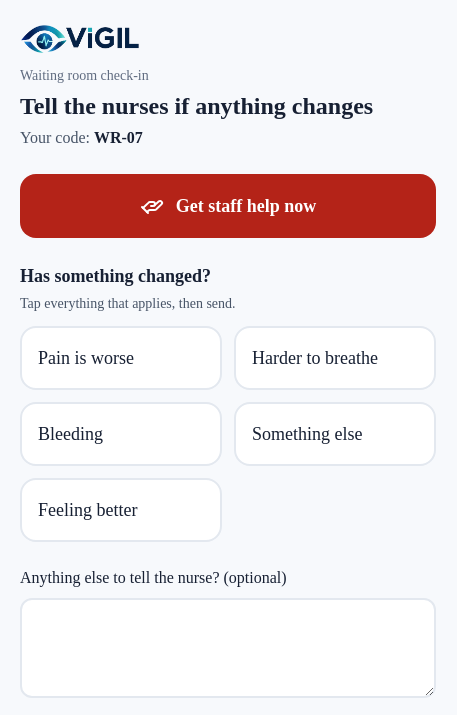
Test case: CheckinView › sends the chosen tags with the code and shows only what was sent
The image size is (457, 715).
Expected: the text "WR-07" is shown, [94, 129, 143, 146]
Click the button "Harder to breathe": (335,358) [234, 326, 436, 390]
(page scrolled)
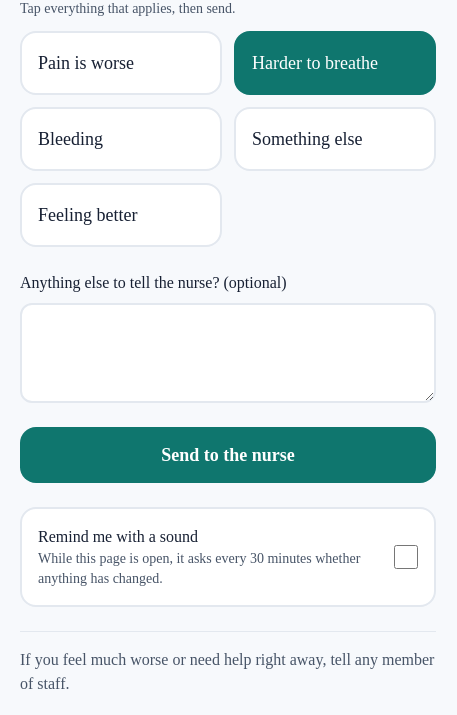
Now the button "Harder to breathe" is pressed, box [234, 31, 436, 95]
Click the button "Send to the nurse": (228,455) [20, 427, 436, 483]
(page scrolled)
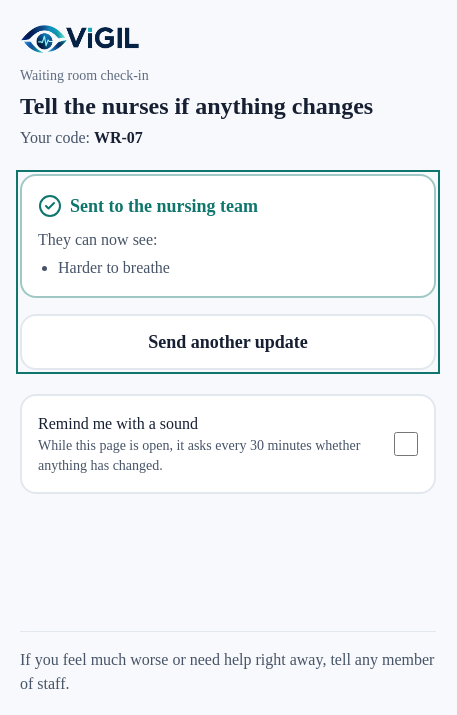
Expected: the list item "Harder to breathe" is shown, [58, 259, 170, 276]
Now the text "Sent to the nursing team" is shown, box [38, 194, 258, 218]
